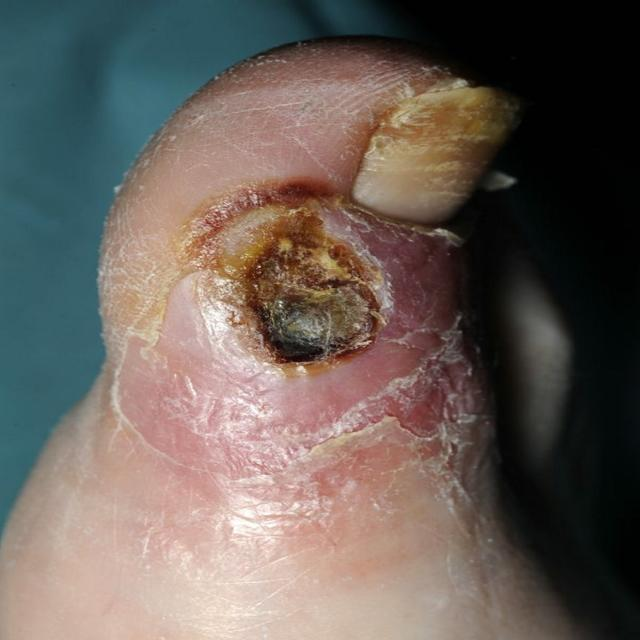wound: (175, 185, 396, 369)
